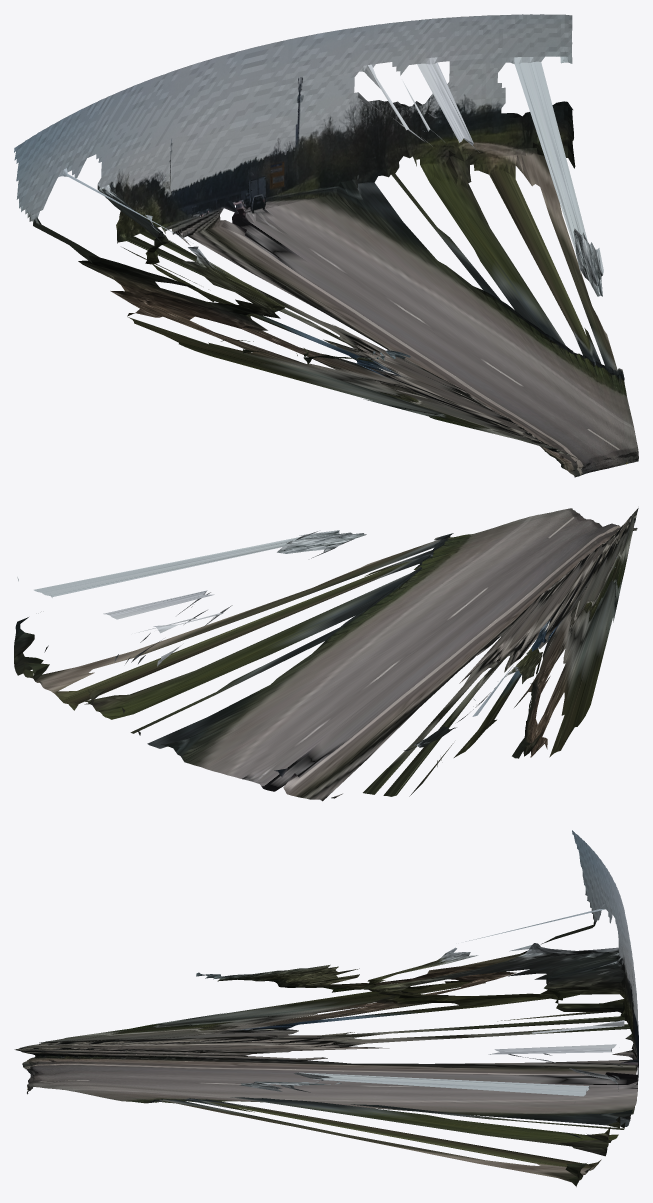
3 renders of one model, top to bottom at view 1: azimuth 30°, elevation 25°; view 2: azimuth 150°, elevation 25°; view 3: azimuth 270°, elevation 25°, orthographic. The views are drawn at different scales.
Visible parts, largest first — view 1: defaultobject; view 2: defaultobject; view 3: defaultobject.
Part boxes in pixels (bbox=[...]): defaultobject: bbox=[14, 14, 638, 477]; defaultobject: bbox=[14, 508, 638, 801]; defaultobject: bbox=[14, 830, 638, 1186].
Size of the model in its own units: 40.08 by 12.15 by 45.16.
1 material, 1 textured.
